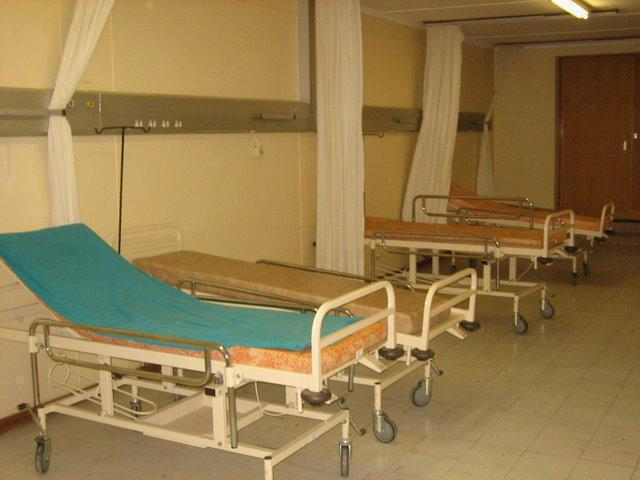Cama: (6, 224, 397, 474), (138, 236, 485, 362), (342, 191, 581, 293), (443, 176, 621, 244)
Escaleras: (589, 216, 639, 245)
Puerta: (556, 58, 637, 220)
